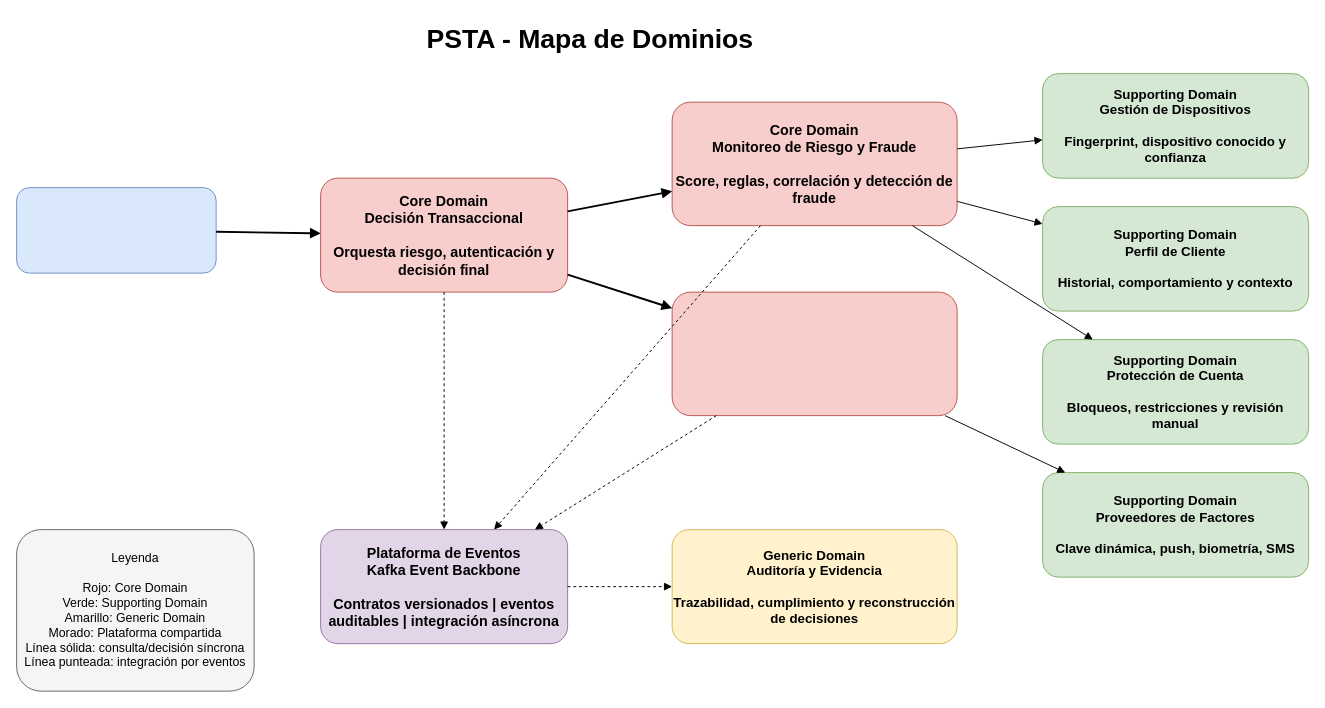
Image size: 1325x708. Some labels were removed from this diagram. Each missing label, with the centre of its shape:
"Canales Digitales Web | Móvil | B2B" goes at [116,230].
"Core Domain Autenticación Adaptativa Selección y validación dinámica de factores" goes at [814,353].
